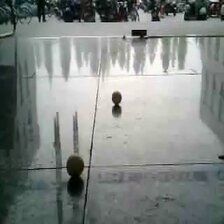w: (66, 155, 84, 178), (111, 91, 122, 106)
